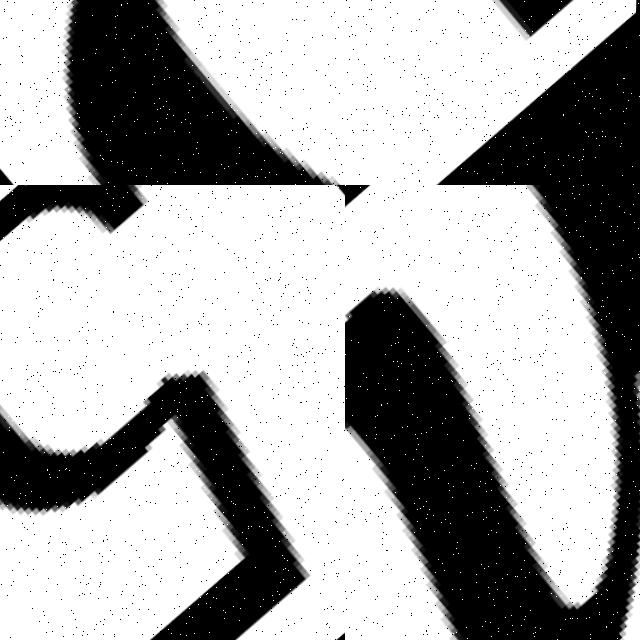5: (0, 185, 345, 640)
K: (345, 0, 640, 185)
N: (345, 185, 640, 640)
